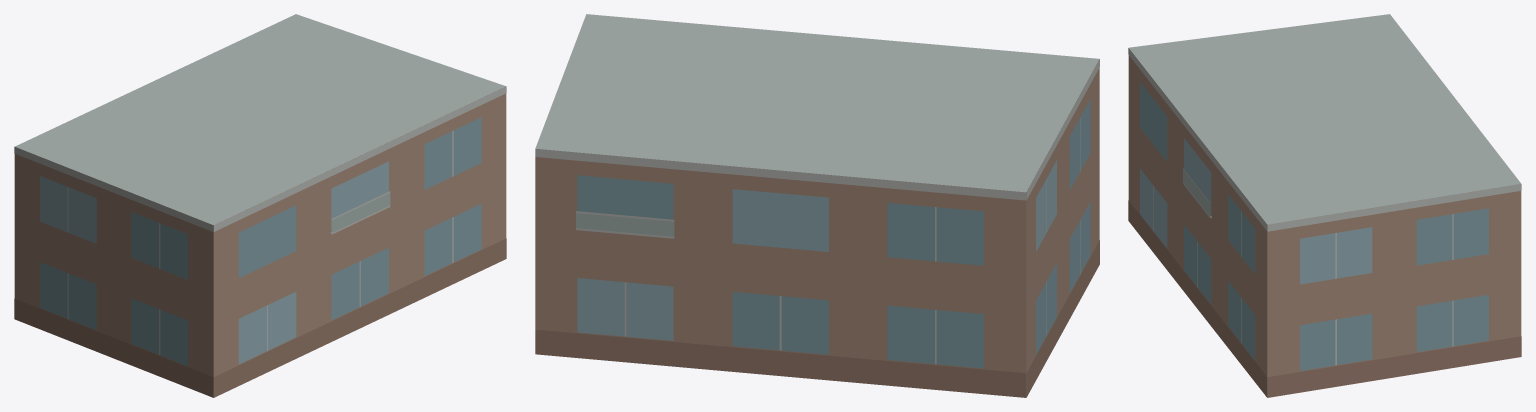
The model's file is survey-upis-32992556.glb.
3 views of the same model, side by side, from view 1: azimuth 30°, elevation 25°; view 2: azimuth 150°, elevation 25°; view 3: azimuth 270°, elevation 25° (orthographic). The views are drawn at different scales.
Visible parts, largest first — view 1: survey-upis-32992556.tmp; view 2: survey-upis-32992556.tmp; view 3: survey-upis-32992556.tmp.
Boxes of the visible parts, left/top/right/bottom form: survey-upis-32992556.tmp: left=14, top=14, right=506, bottom=397; survey-upis-32992556.tmp: left=535, top=14, right=1099, bottom=397; survey-upis-32992556.tmp: left=1128, top=14, right=1521, bottom=397.
Size of the model in its own units: 15.94 by 6.1 by 12.56.
